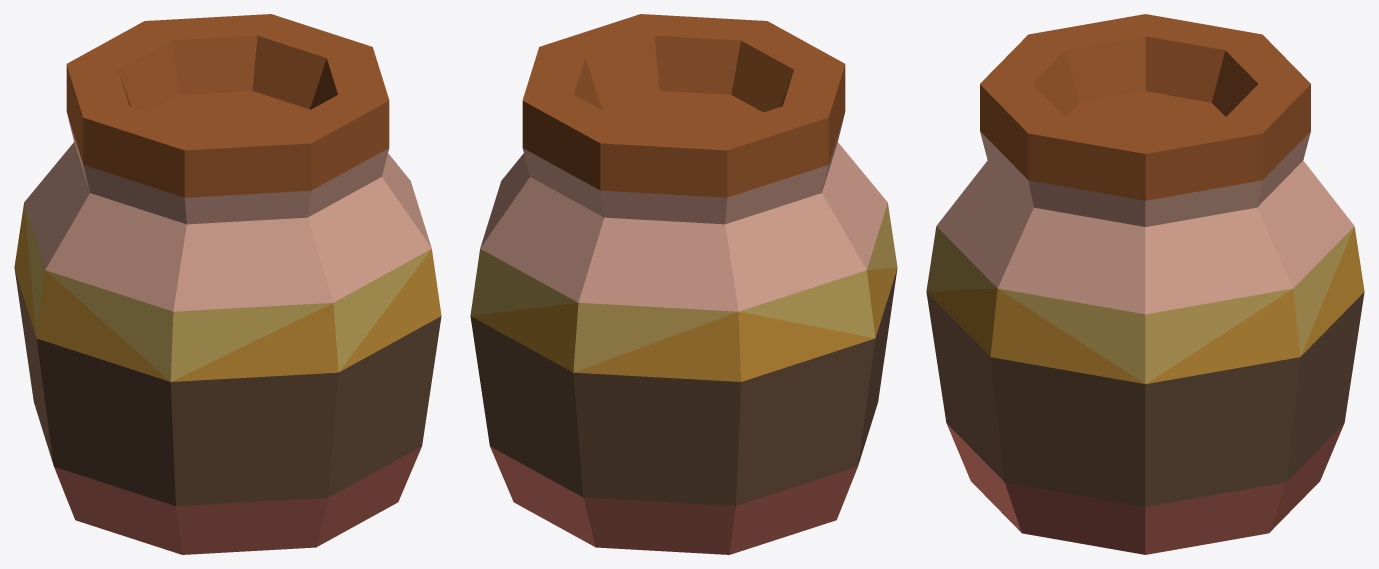
Rendered from honey.glb.
The picture shows the model from 3 angles, left to right: view 1: azimuth 30°, elevation 25°; view 2: azimuth 150°, elevation 25°; view 3: azimuth 270°, elevation 25°; orthographic projection.
Bounding box in the file's own units: 1 × 1 × 1.
